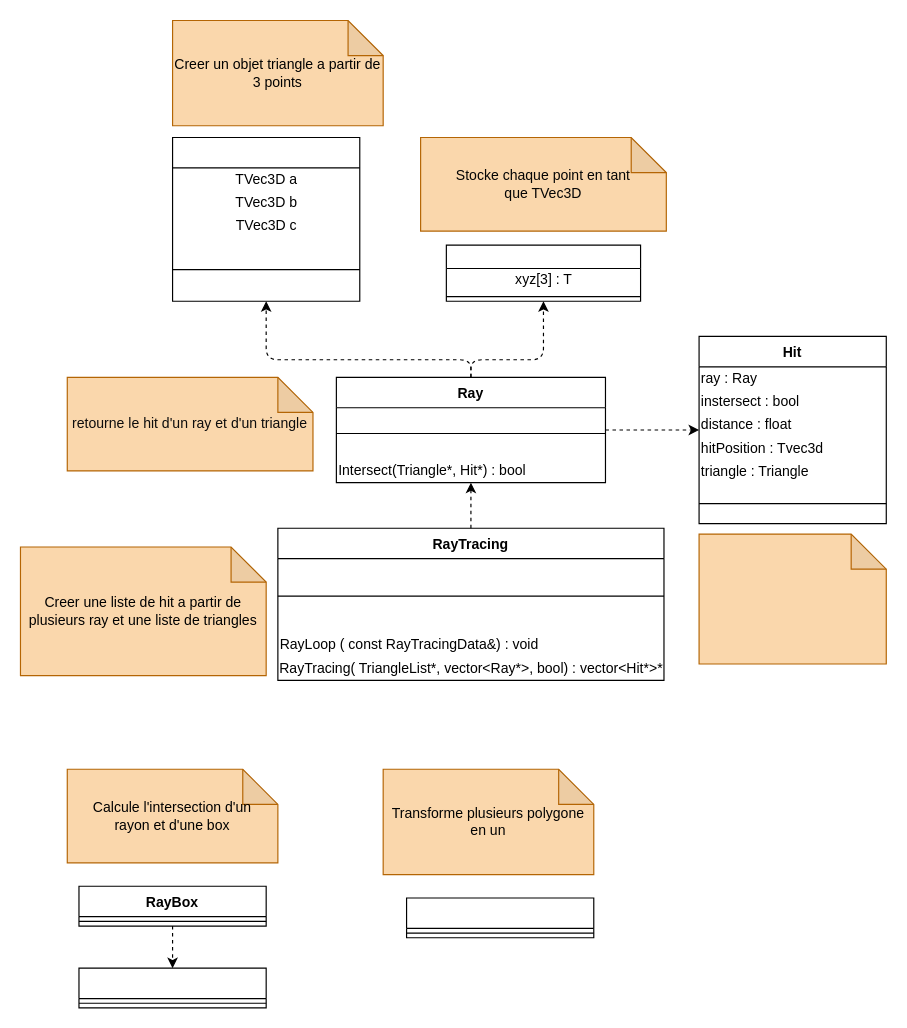
Some shapes in this 907 by 1028 pixel diagram are drawn without their labels. The box of each missing label's shape, as (x1, y1, x2, y2) in pixels:
AABB: (78, 967, 266, 1008)
Contient le point du hit, le triangle et la distance entre le hit et le triangle: (698, 533, 886, 664)
OGRGDALTools: (405, 897, 594, 938)
Triangle: (171, 136, 360, 301)
TVec3D: (445, 244, 641, 301)
